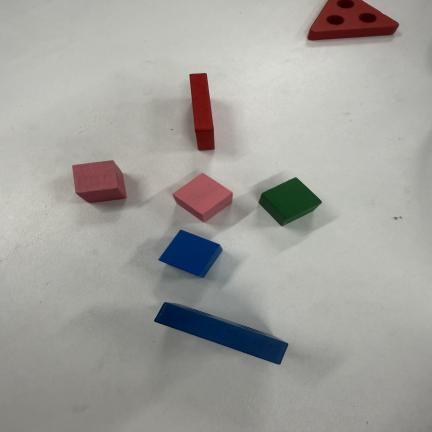BuildingBlocks: (155, 303, 287, 364), (308, 0, 398, 40), (159, 230, 222, 277), (259, 178, 321, 225), (174, 174, 232, 221), (73, 161, 126, 202), (190, 74, 214, 150)
